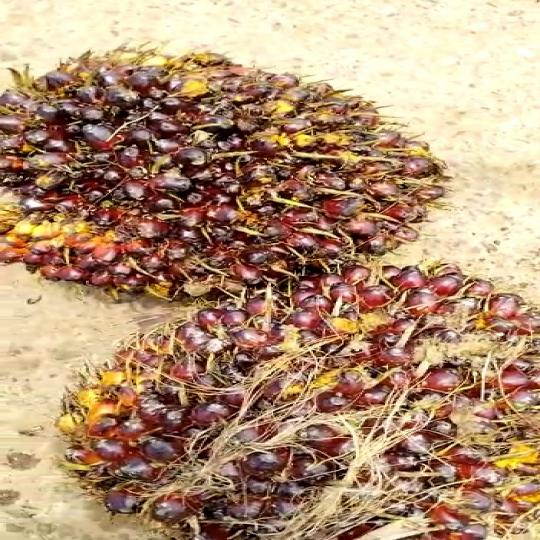kurang masak: (50, 266, 540, 540), (0, 34, 475, 308)
